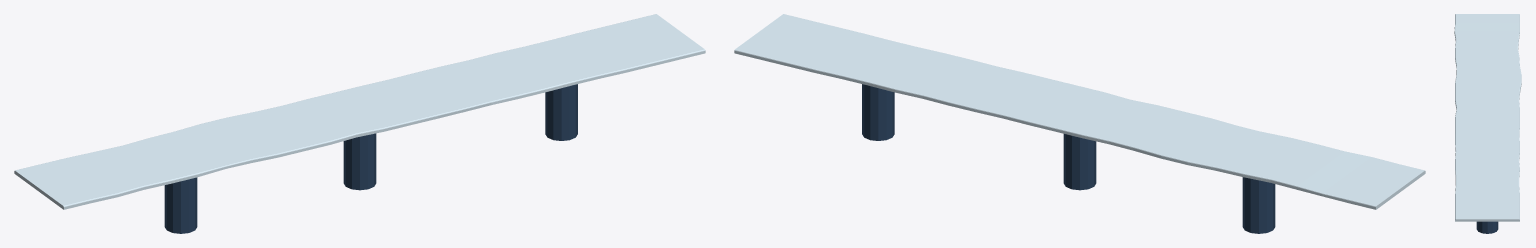
Rendered from Bridge_Straight.fbx.
3 views of the same model, side by side, from view 1: azimuth 30°, elevation 25°; view 2: azimuth 150°, elevation 25°; view 3: azimuth 270°, elevation 25° (orthographic). The views are drawn at different scales.
Parts seen in each view (by area): view 1: Plane.001; view 2: Plane.001; view 3: Plane.001.
Part boxes in pixels (<box>): Plane.001: <box>14,14,705,233</box>; Plane.001: <box>734,14,1425,233</box>; Plane.001: <box>1454,14,1521,233</box>.
Size of the model in its own units: 150 by 16.4 by 20.69.
